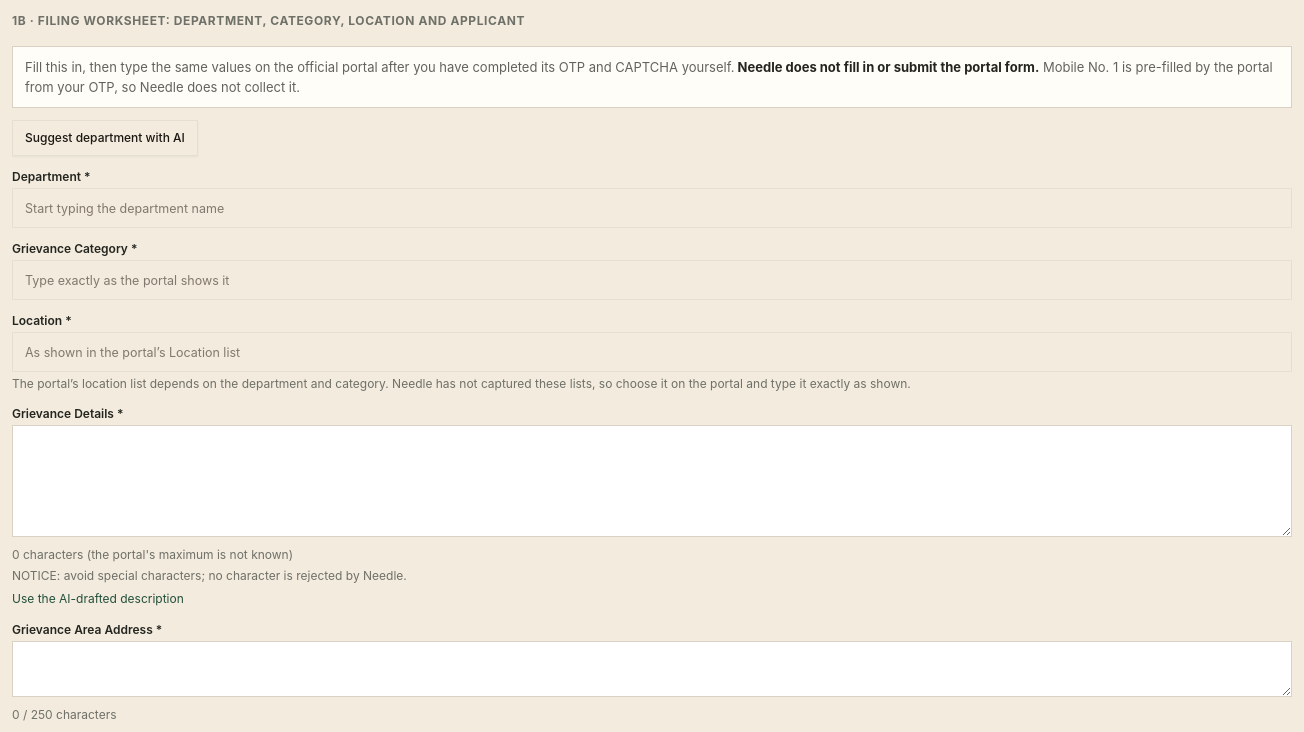
Test: DelhiFilingWorksheet › offers the AI-drafted description only while Grievance Details is empty
Click the button "Use the AI-drafted description" at (98, 599), box [12, 590, 184, 608]
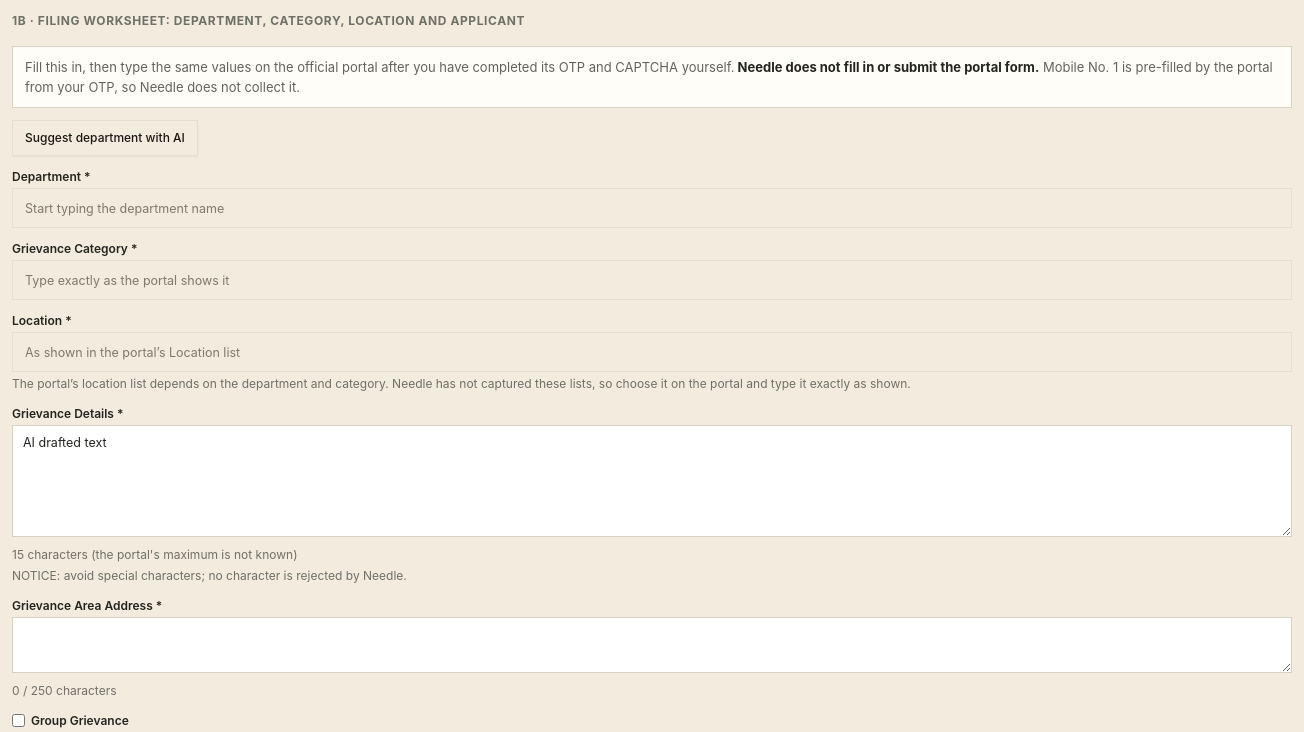
Check: the text box labelled "Grievance Details *" holds "AI drafted text", box [12, 425, 1292, 537]
Check: the button "Use the AI-drafted description" is gone
